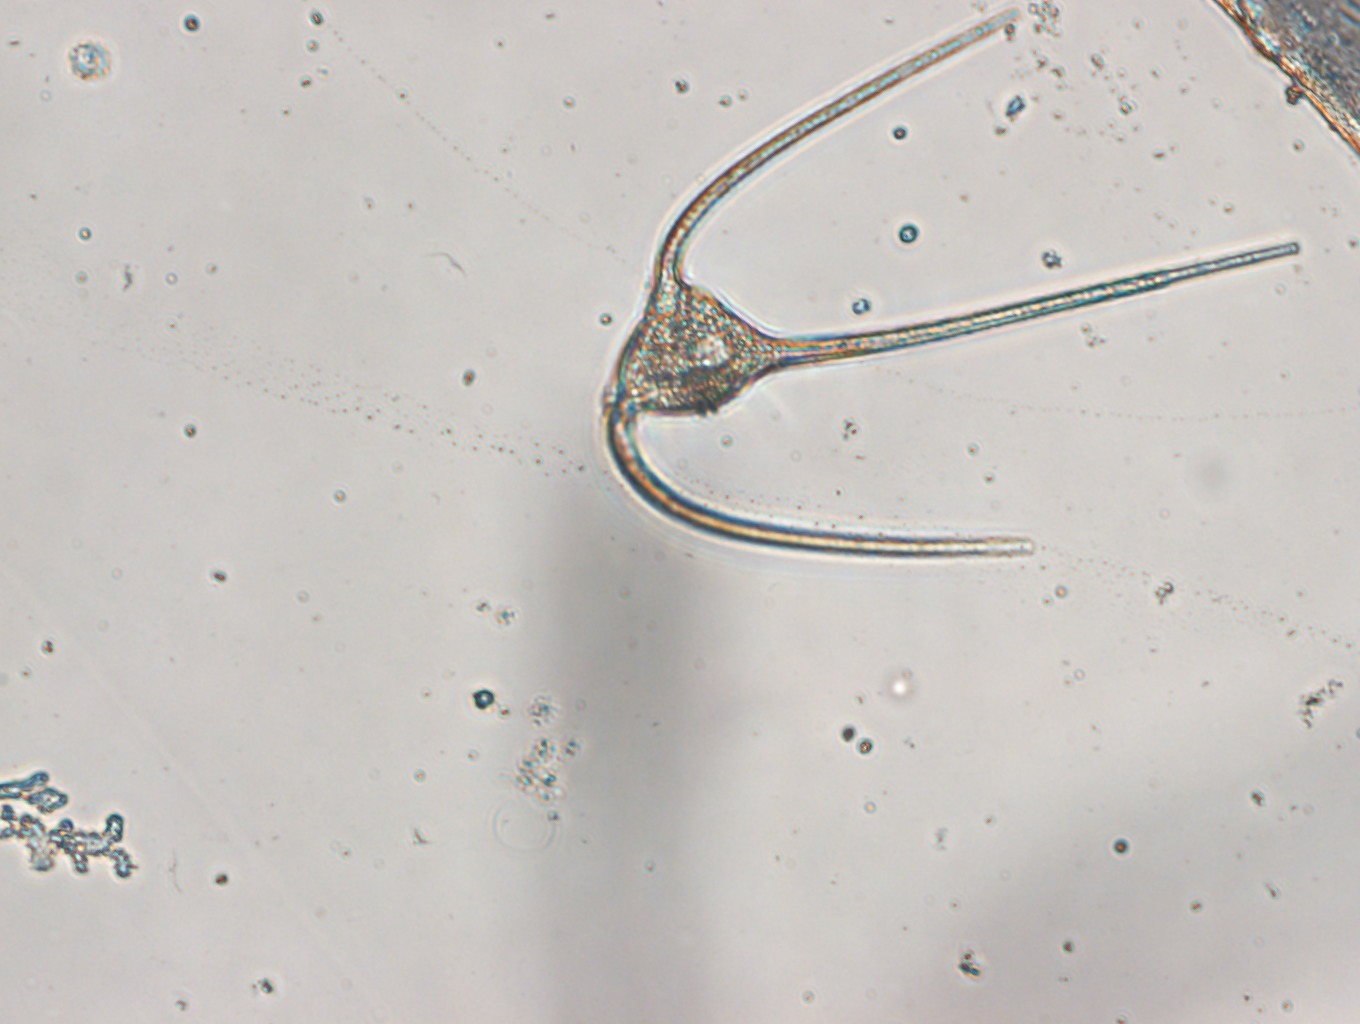ceratium trichoceros: (595, 5, 1299, 561)
